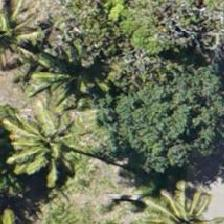coconut_tree: (30, 24, 120, 114), (0, 97, 86, 187), (0, 0, 48, 75)
